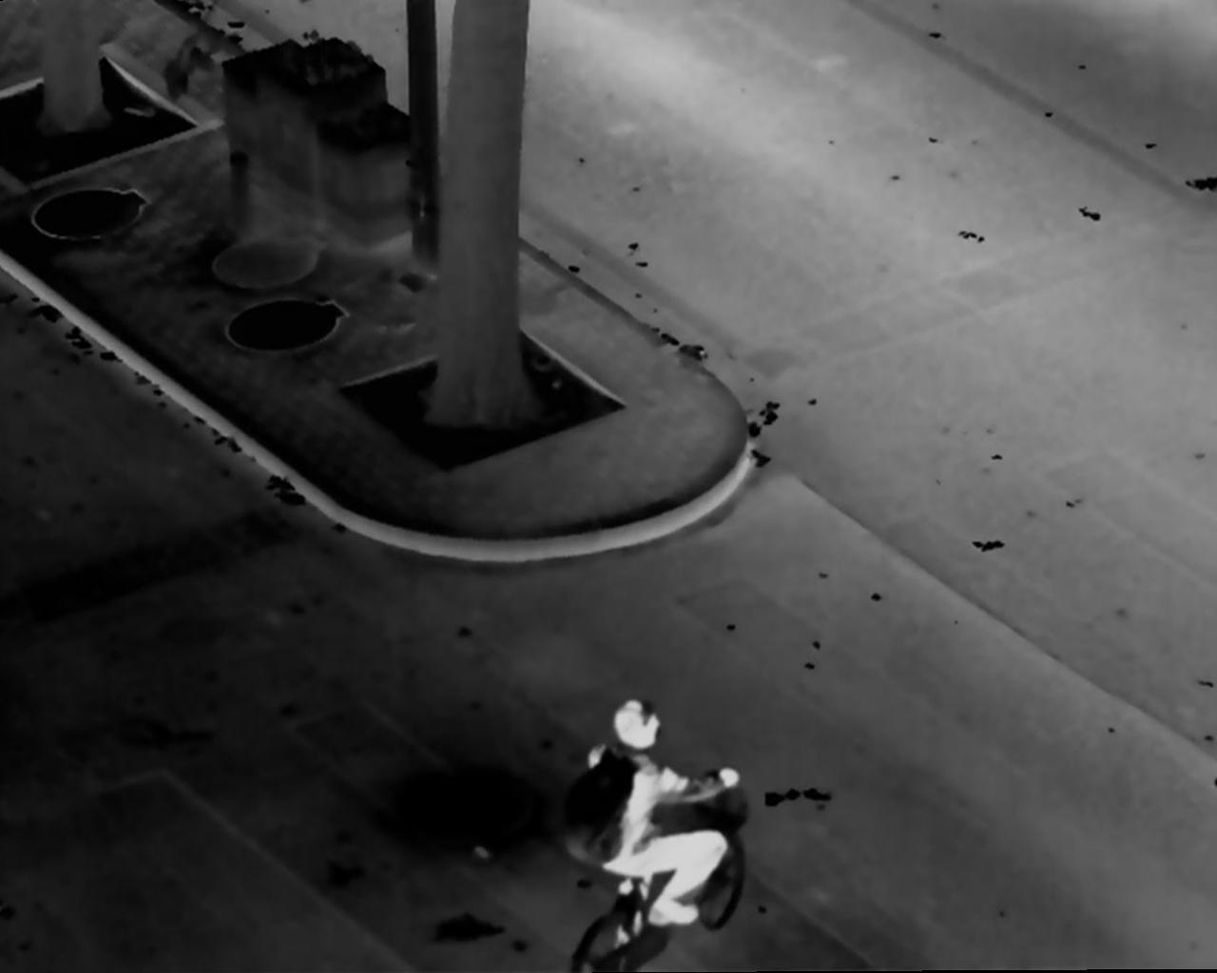person: (564, 689, 739, 934)
